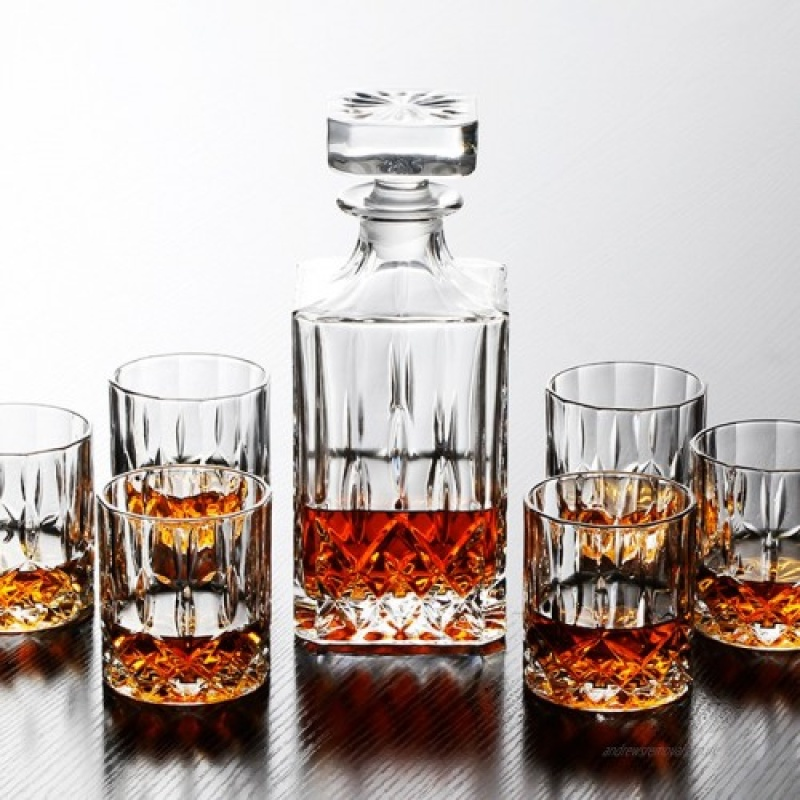whiskey: (111, 468, 270, 715), (526, 476, 699, 703), (1, 398, 98, 647), (697, 413, 800, 639), (109, 342, 267, 469)
